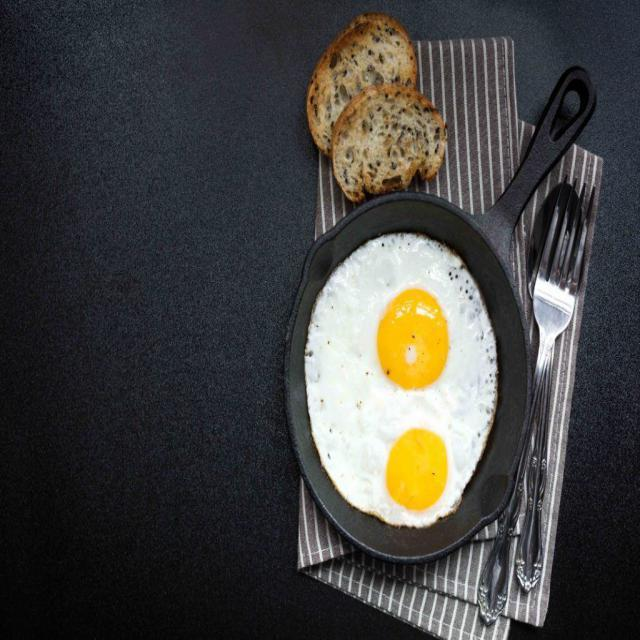Bread: (296, 11, 448, 190)
Fried Egg: (309, 235, 492, 530)
